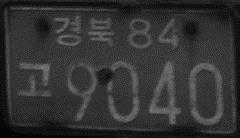0: (187, 61, 225, 125), (105, 59, 140, 123)
4: (146, 60, 183, 125), (156, 16, 182, 50)
8: (127, 16, 153, 50)
9: (64, 59, 99, 123)
경북_O: (52, 15, 116, 49)
고: (16, 59, 55, 99)
